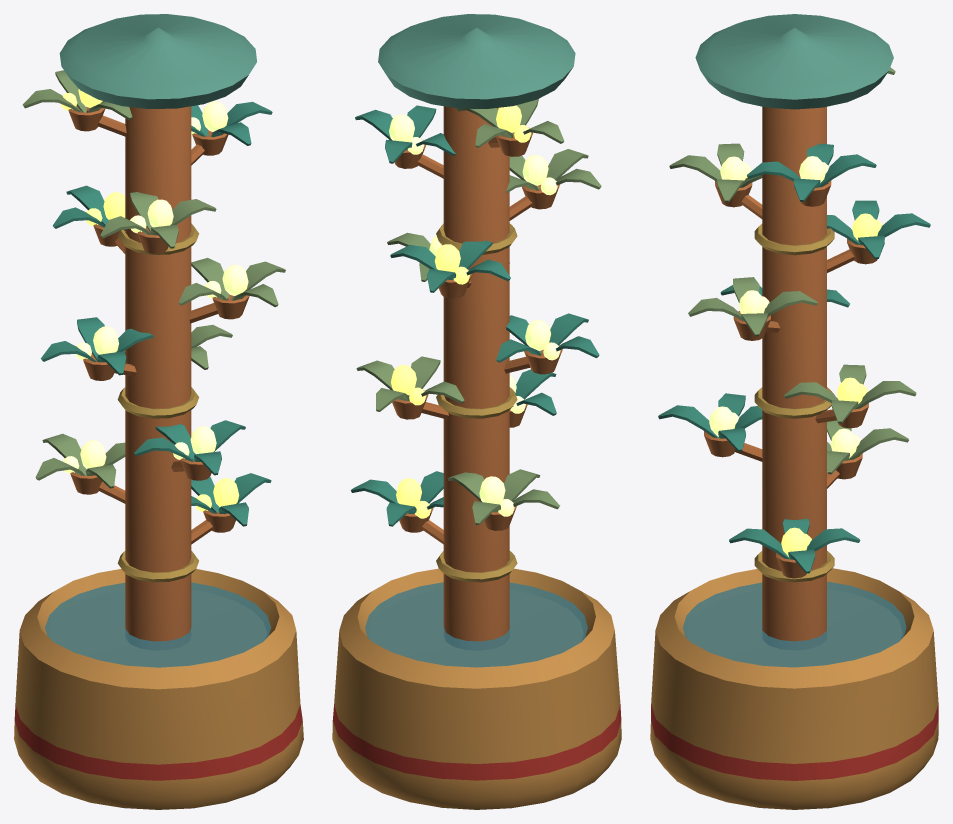
File: deco_hydroponic_column.fbx
The picture shows the model from 3 angles, left to right: view 1: azimuth 30°, elevation 25°; view 2: azimuth 150°, elevation 25°; view 3: azimuth 270°, elevation 25°; orthographic projection.
Parts seen in each view (by area): view 1: Hydroponic_Column_Tank, Hydroponic_Column_Tube, Hydroponic_Column_Cap, Hydroponic_Column_Cup6, Hydroponic_Column_Cup2, Hydroponic_Column_Cup3, Hydroponic_Column_Cup5, Hydroponic_Column_Cup8, Hydroponic_Column_Cup1, Hydroponic_Column_Cup9, Hydroponic_Column_Cup10, Hydroponic_Column_Cup7 (+1 smaller); view 2: Hydroponic_Column_Tank, Hydroponic_Column_Tube, Hydroponic_Column_Cap, Hydroponic_Column_Cup5, Hydroponic_Column_Cup4, Hydroponic_Column_Cup8, Hydroponic_Column_Cup9, Hydroponic_Column_Cup7, Hydroponic_Column_Cup2, Hydroponic_Column_Cup1, Hydroponic_Column_Cup10, Hydroponic_Column_Cup3 (+1 smaller); view 3: Hydroponic_Column_Tank, Hydroponic_Column_Tube, Hydroponic_Column_Cap, Hydroponic_Column_Cup3, Hydroponic_Column_Cup4, Hydroponic_Column_Cup7, Hydroponic_Column_Cup6, Hydroponic_Column_Cup1, Hydroponic_Column_Cup9, Hydroponic_Column_Cup8, Hydroponic_Column_Cup2.
Boxes of the visible parts, left/top/right/bottom form: Hydroponic_Column_Tank: left=14, top=569, right=303, bottom=809; Hydroponic_Column_Tube: left=117, top=106, right=199, bottom=649; Hydroponic_Column_Cap: left=59, top=14, right=256, bottom=108; Hydroponic_Column_Cup6: left=178, top=257, right=285, bottom=323; Hydroponic_Column_Cup2: left=35, top=433, right=125, bottom=503; Hydroponic_Column_Cup3: left=134, top=420, right=245, bottom=480; Hydroponic_Column_Cup5: left=41, top=317, right=153, bottom=380; Hydroponic_Column_Cup8: left=100, top=192, right=216, bottom=253; Hydroponic_Column_Cup1: left=191, top=473, right=271, bottom=544; Hydroponic_Column_Cup9: left=191, top=101, right=272, bottom=165; Hydroponic_Column_Cup10: left=22, top=70, right=132, bottom=136; Hydroponic_Column_Cup7: left=53, top=185, right=125, bottom=253; Hydroponic_Column_Tank: left=332, top=568, right=621, bottom=809; Hydroponic_Column_Tube: left=436, top=106, right=517, bottom=649; Hydroponic_Column_Cap: left=378, top=14, right=575, bottom=108; Hydroponic_Column_Cup5: left=496, top=313, right=599, bottom=374; Hydroponic_Column_Cup4: left=356, top=356, right=464, bottom=419; Hydroponic_Column_Cup8: left=506, top=149, right=601, bottom=220; Hydroponic_Column_Cup9: left=355, top=105, right=455, bottom=178; Hydroponic_Column_Cup7: left=390, top=240, right=510, bottom=298; Hydroponic_Column_Cup2: left=447, top=469, right=559, bottom=530; Hydroponic_Column_Cup1: left=351, top=471, right=443, bottom=544; Hydroponic_Column_Cup10: left=457, top=99, right=564, bottom=156; Hydroponic_Column_Cup3: left=509, top=369, right=556, bottom=427; Hydroponic_Column_Tank: left=650, top=568, right=938, bottom=809; Hydroponic_Column_Tube: left=754, top=106, right=834, bottom=649; Hydroponic_Column_Cap: left=695, top=14, right=893, bottom=109; Hydroponic_Column_Cup3: left=658, top=393, right=762, bottom=461; Hydroponic_Column_Cup4: left=784, top=364, right=916, bottom=428; Hydroponic_Column_Cup7: left=827, top=200, right=930, bottom=272; Hydroponic_Column_Cup6: left=688, top=277, right=817, bottom=340; Hydroponic_Column_Cup1: left=729, top=518, right=860, bottom=578; Hydroponic_Column_Cup9: left=747, top=143, right=876, bottom=206; Hydroponic_Column_Cup8: left=669, top=143, right=762, bottom=218; Hydroponic_Column_Cup2: left=827, top=420, right=908, bottom=488.
Size of the model in its own units: 96.52 by 266 by 95.89.
